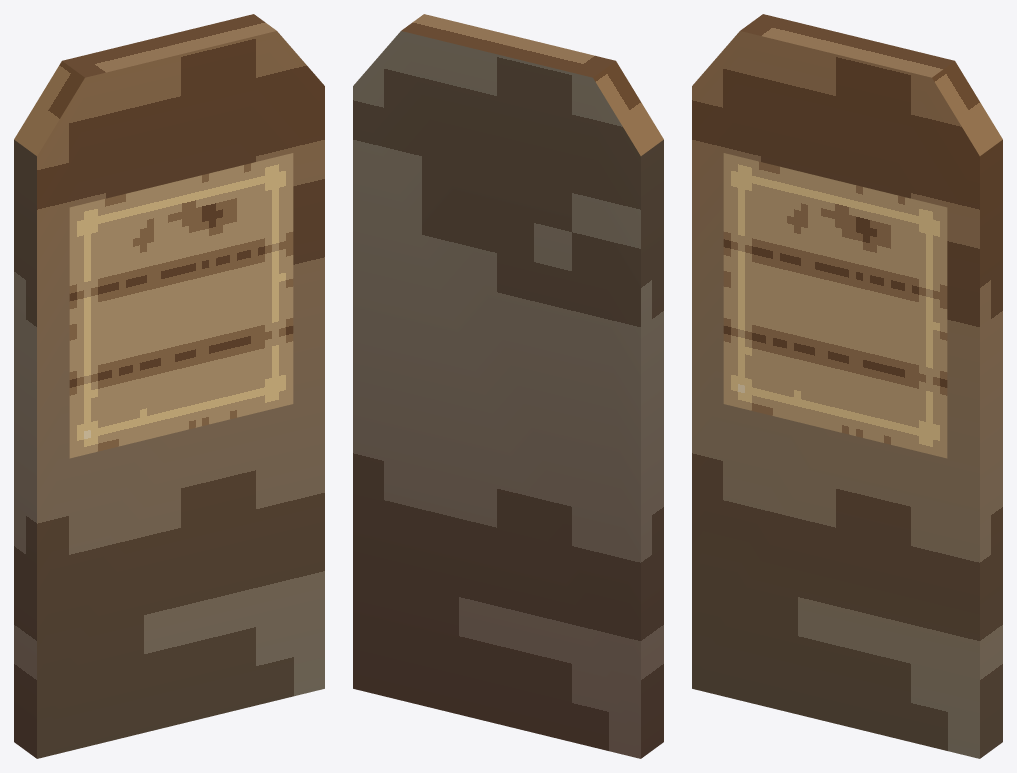
File: wprop.tombstone__board.glb
3 renders of one model, left to right at view 1: azimuth 30°, elevation 25°; view 2: azimuth 150°, elevation 25°; view 3: azimuth 330°, elevation 25°, orthographic.
Parts seen in each view (by area): view 1: kit_board, kit_card_face; view 2: kit_board; view 3: kit_board, kit_card_face.
Part boxes in pixels (x1,y1,x2,y2): kit_board: [14, 14, 324, 758]; kit_card_face: [69, 153, 293, 458]; kit_board: [353, 14, 663, 758]; kit_board: [692, 14, 1002, 758]; kit_card_face: [723, 153, 947, 458].
Bounding box in the file's own units: 0.36 × 0.8 × 0.051.
2 materials, 2 textured.
